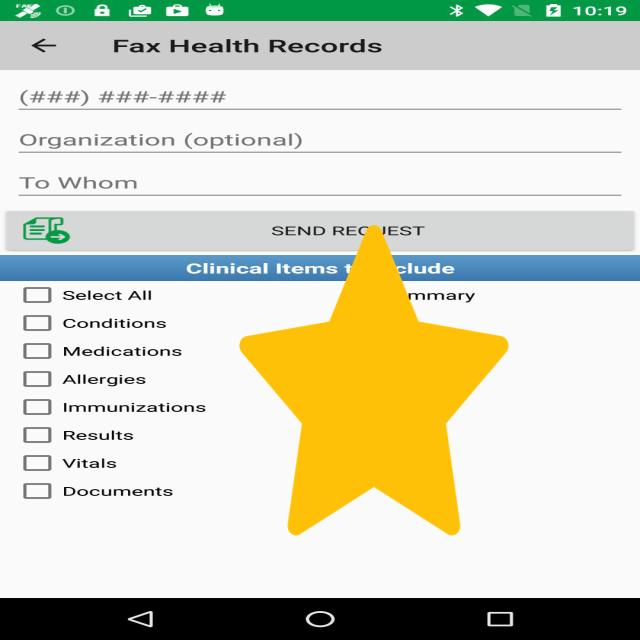forced continuity: (240, 225, 508, 536)
